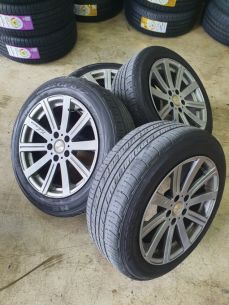new_condition: (83, 119, 199, 278)
